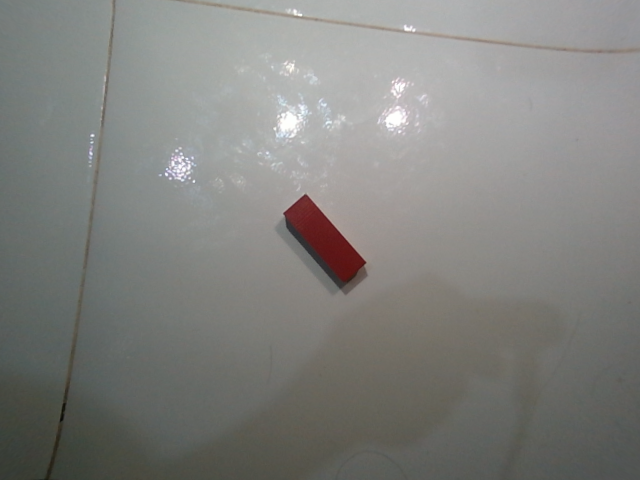Balok-Merah-Marun: (278, 194, 369, 287)
